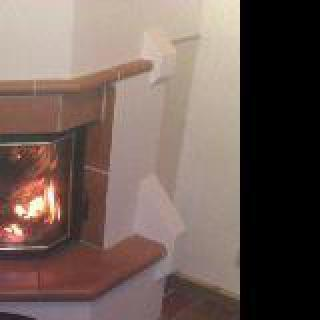fire: (0, 130, 68, 248)
